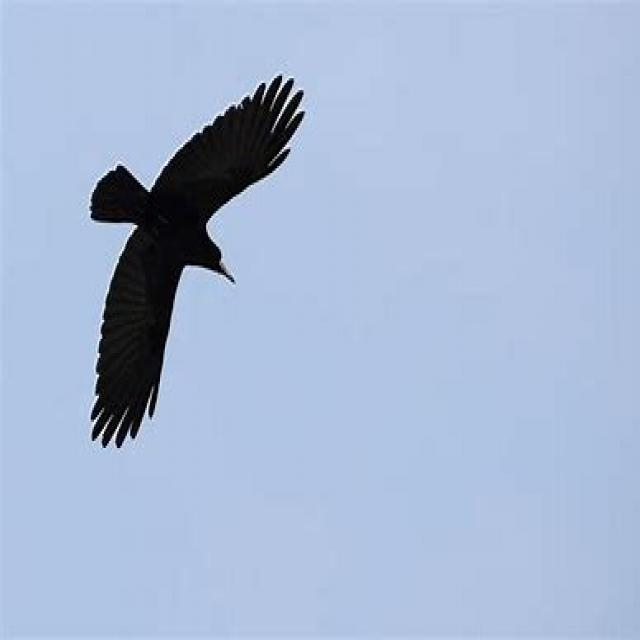crow: (89, 70, 308, 458)
